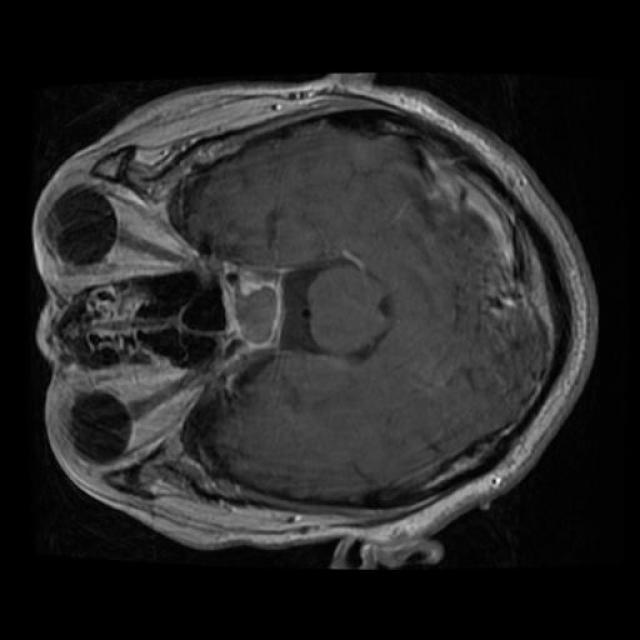Pituitary: (219, 262, 293, 356)
